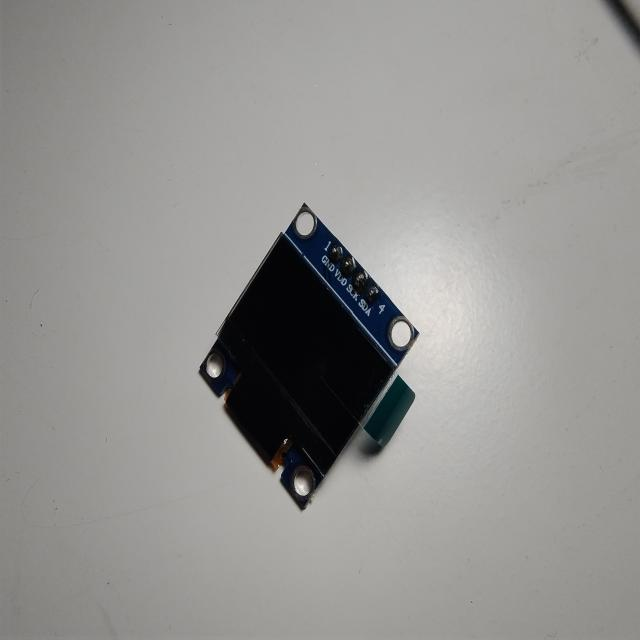oled: (193, 200, 425, 525)
